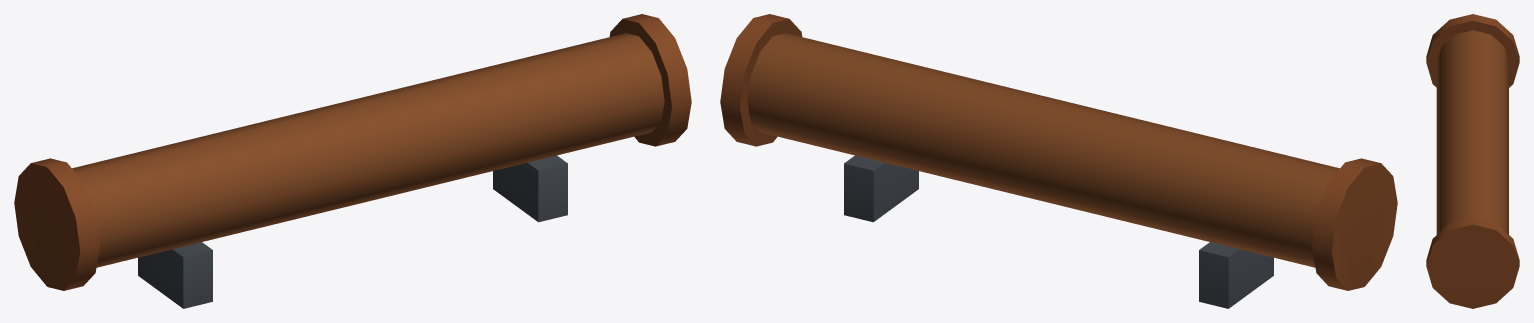
Rendered from prop.honey_pipe.glb.
3 views of the same model, side by side, from view 1: azimuth 30°, elevation 25°; view 2: azimuth 150°, elevation 25°; view 3: azimuth 270°, elevation 25° (orthographic). The views are drawn at different scales.
Visible parts, largest first — view 1: honey_pipe; view 2: honey_pipe; view 3: honey_pipe.
Part boxes in pixels (x1=…): honey_pipe: x1=14, y1=14, x2=691, y2=308; honey_pipe: x1=720, y1=14, x2=1397, y2=308; honey_pipe: x1=1426, y1=14, x2=1519, y2=308.
Size of the model in its own units: 6.2 by 1.48 by 1.16.
